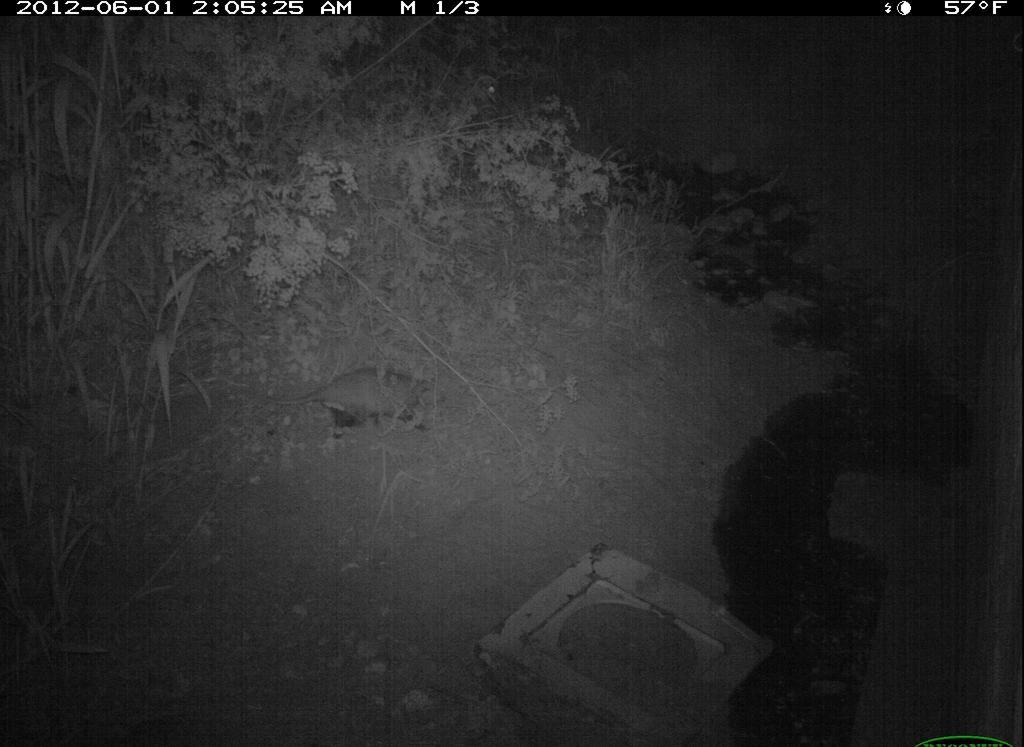opossum: (248, 350, 457, 452)
